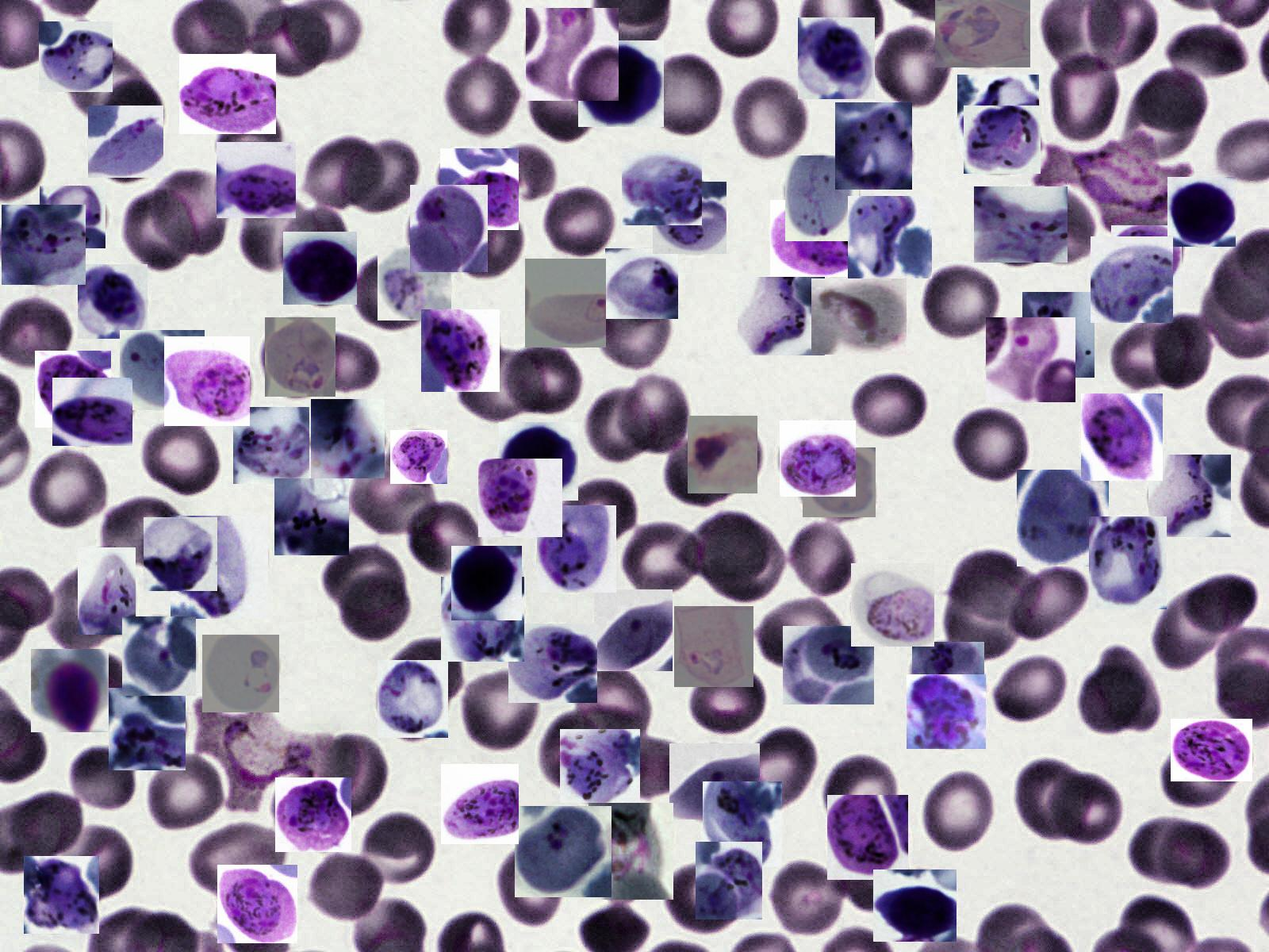Infected: (1039, 132, 1194, 234), (190, 702, 332, 809), (171, 516, 268, 619), (1017, 470, 1109, 566), (515, 806, 611, 897), (526, 8, 619, 101), (588, 803, 673, 900), (179, 54, 276, 134), (164, 336, 250, 426), (986, 317, 1075, 402), (770, 200, 868, 277), (578, 40, 664, 127), (811, 278, 907, 355), (1089, 516, 1167, 609), (974, 186, 1068, 263), (1081, 393, 1163, 481), (1091, 237, 1173, 324), (525, 259, 606, 347), (783, 626, 874, 704), (441, 577, 524, 662), (508, 624, 597, 703), (669, 743, 760, 820), (851, 563, 934, 647), (537, 505, 616, 593), (1148, 455, 1231, 538), (848, 196, 932, 278), (827, 795, 908, 880), (120, 330, 205, 410), (704, 781, 783, 867), (738, 277, 825, 355), (410, 185, 488, 272), (835, 102, 912, 190), (2, 205, 86, 285), (421, 309, 500, 392), (478, 459, 562, 537), (594, 589, 673, 671), (440, 148, 519, 230), (31, 649, 109, 732), (674, 606, 753, 687), (785, 155, 859, 241), (109, 688, 186, 770), (957, 75, 1039, 152), (1022, 292, 1095, 378), (935, 1, 1030, 67), (499, 422, 578, 501), (441, 764, 519, 844), (217, 865, 297, 943), (798, 18, 875, 99), (873, 869, 957, 942), (217, 142, 296, 218), (622, 150, 702, 225), (202, 635, 279, 712), (907, 674, 986, 749), (122, 616, 196, 696), (560, 729, 640, 803), (233, 407, 309, 484), (780, 420, 856, 497), (35, 351, 111, 428), (24, 856, 99, 934), (274, 478, 349, 555), (312, 399, 385, 478), (275, 777, 351, 852), (265, 317, 335, 397), (378, 245, 451, 321), (378, 660, 448, 738), (52, 378, 132, 446), (283, 232, 357, 305), (144, 517, 217, 591), (88, 106, 163, 178), (688, 416, 758, 493), (912, 642, 984, 716), (653, 182, 727, 254), (39, 21, 113, 92), (451, 546, 522, 620), (78, 264, 148, 339), (964, 106, 1041, 174), (605, 248, 678, 319), (696, 842, 763, 919), (803, 447, 876, 517), (78, 547, 136, 635), (1171, 719, 1252, 781), (1167, 177, 1236, 247), (1111, 225, 1182, 286), (40, 186, 105, 248), (390, 430, 447, 484)
Uninfected: (750, 589, 853, 677), (727, 727, 825, 819), (40, 820, 133, 912), (187, 820, 288, 904), (1119, 67, 1206, 163), (94, 495, 197, 574), (941, 573, 1028, 664), (1045, 46, 1124, 146), (521, 55, 607, 146), (874, 20, 959, 109), (638, 52, 723, 138), (460, 666, 544, 753), (495, 836, 573, 929), (246, 0, 333, 83), (701, 515, 784, 601), (728, 75, 809, 163), (347, 457, 435, 538), (999, 563, 1086, 644), (674, 509, 767, 584), (140, 749, 225, 831), (592, 288, 673, 374), (949, 549, 1042, 622), (27, 448, 108, 531), (42, 566, 123, 649), (495, 340, 581, 418), (443, 54, 521, 139), (822, 754, 900, 839), (919, 262, 1000, 343), (621, 522, 705, 600), (1152, 587, 1229, 672), (320, 541, 408, 615), (141, 418, 222, 498), (920, 769, 996, 854), (457, 348, 544, 422), (768, 858, 847, 939), (67, 49, 151, 125), (1160, 21, 1252, 90), (539, 187, 622, 263), (303, 136, 386, 212), (561, 474, 641, 552), (156, 172, 234, 252), (952, 405, 1028, 486), (688, 660, 765, 739), (209, 100, 285, 180), (4, 789, 87, 862), (1016, 759, 1088, 842), (241, 194, 317, 272), (314, 738, 390, 816), (661, 437, 742, 510), (571, 666, 653, 738), (124, 189, 196, 270), (1097, 644, 1164, 731), (308, 851, 385, 926), (446, 207, 526, 279), (619, 368, 689, 450), (991, 650, 1067, 725), (381, 639, 463, 708), (410, 498, 484, 574), (664, 860, 738, 936), (784, 520, 857, 597), (357, 258, 431, 333), (851, 371, 925, 445), (586, 386, 653, 467), (1029, 181, 1095, 263), (65, 743, 139, 816), (1159, 740, 1238, 808), (609, 738, 694, 800), (1046, 773, 1121, 843), (289, 332, 381, 389), (1076, 663, 1144, 740), (540, 711, 605, 791), (1111, 321, 1184, 392), (1129, 816, 1209, 880), (278, 210, 350, 281), (842, 836, 908, 912), (347, 144, 420, 211), (358, 816, 428, 885), (174, 0, 245, 67), (96, 79, 162, 148), (1151, 313, 1211, 388), (1159, 825, 1229, 889), (63, 653, 131, 718), (1183, 570, 1255, 631), (343, 574, 409, 639)
